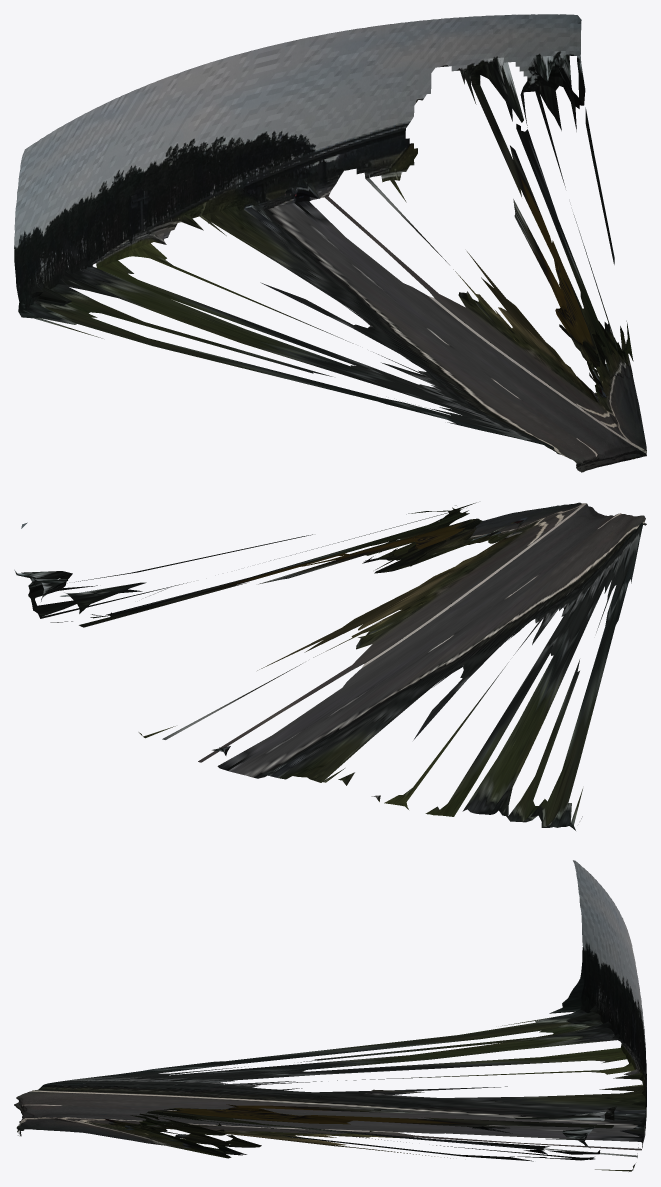
The picture shows the model from 3 angles, top to bottom: view 1: azimuth 30°, elevation 25°; view 2: azimuth 150°, elevation 25°; view 3: azimuth 270°, elevation 25°; orthographic projection. The views are drawn at different scales.
Parts seen in each view (by area): view 1: defaultobject; view 2: defaultobject; view 3: defaultobject.
Part boxes in pixels (box(x1,y1,x2,y2)): defaultobject: box(14, 14, 646, 472); defaultobject: box(14, 502, 646, 830); defaultobject: box(14, 860, 646, 1171).
Size of the model in its own units: 41.02 by 12.52 by 44.42.
1 material, 1 textured.
